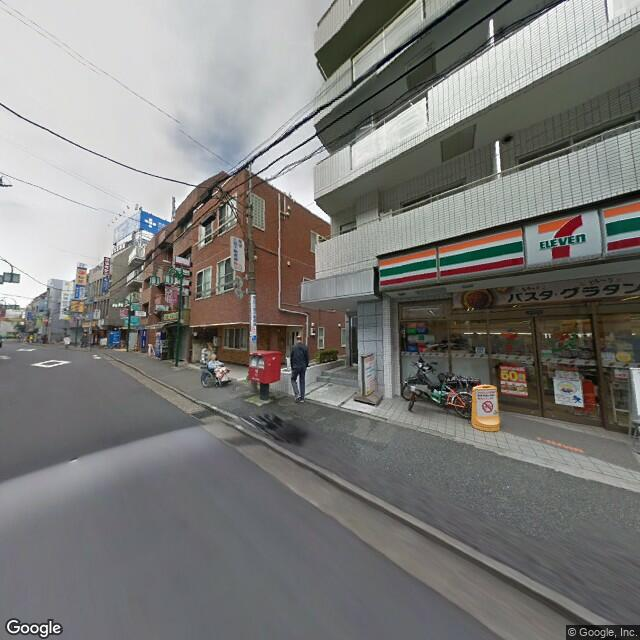7-eleven: (377, 196, 639, 296)
